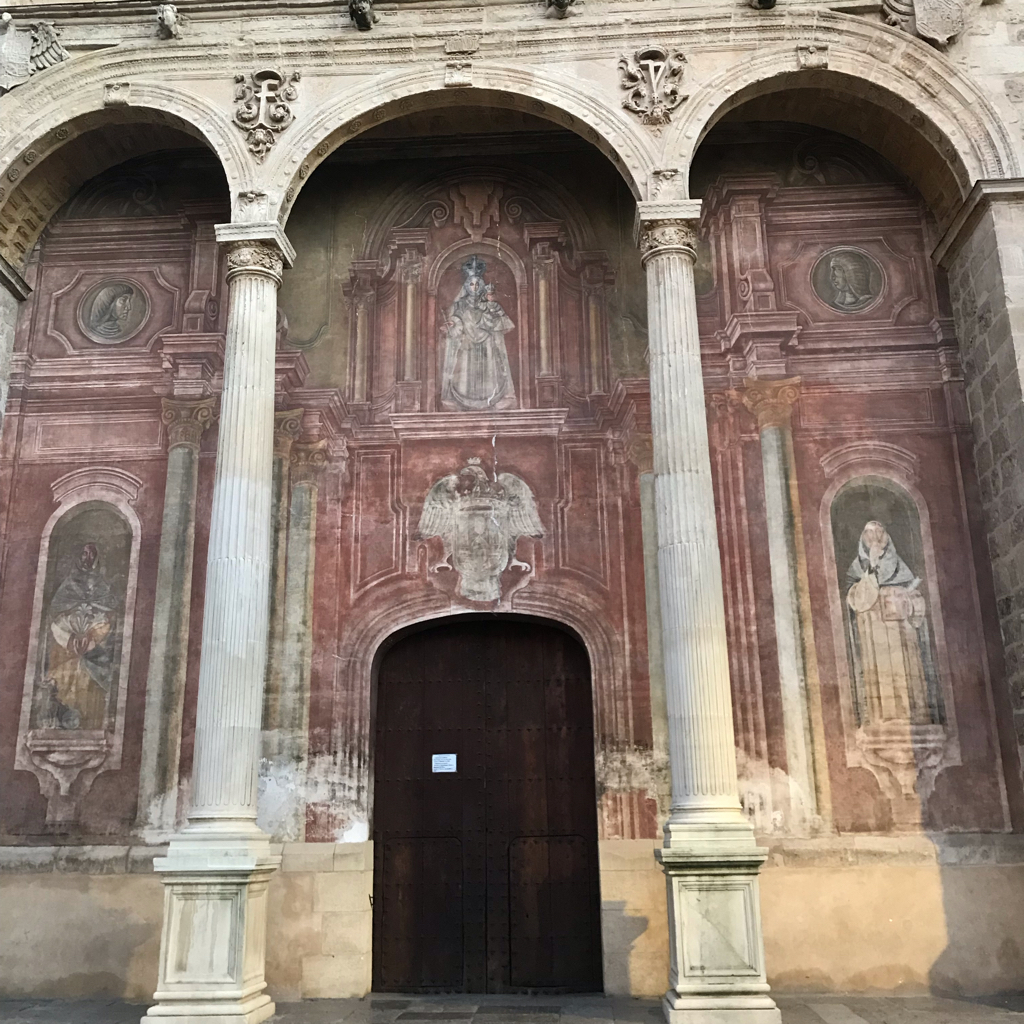arco-medio-punto: (259, 66, 659, 276), (663, 51, 1001, 259), (1, 102, 245, 277)
